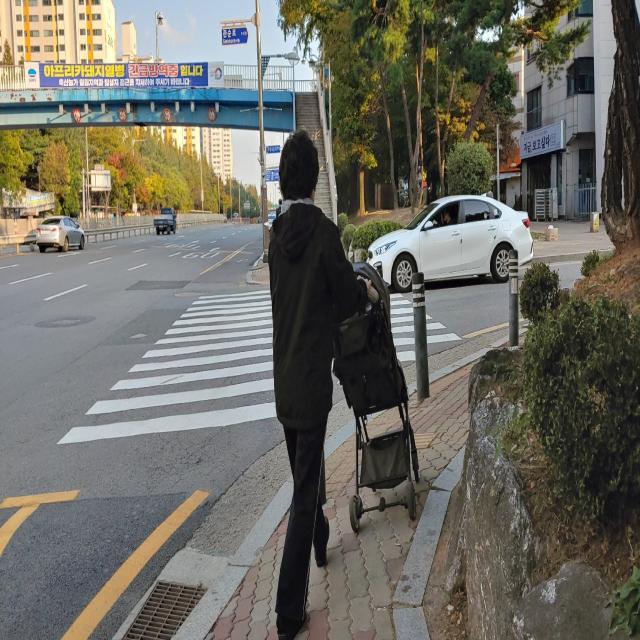횡단보도: (54, 286, 465, 449)
